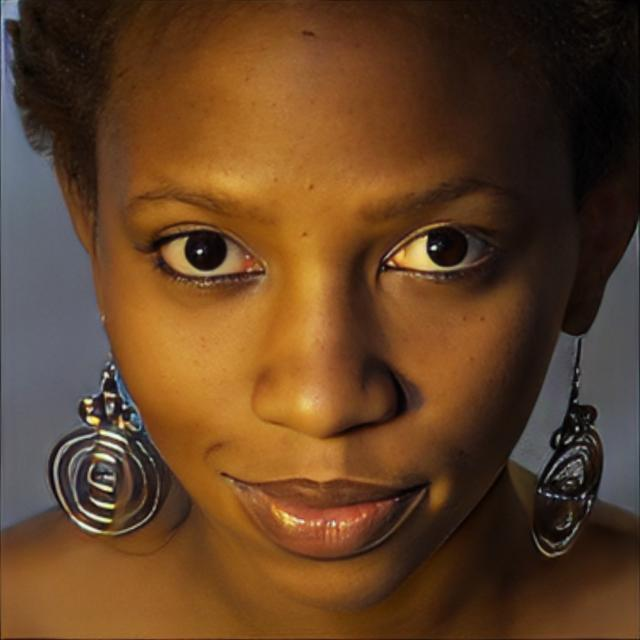neutral: (92, 0, 580, 609)
